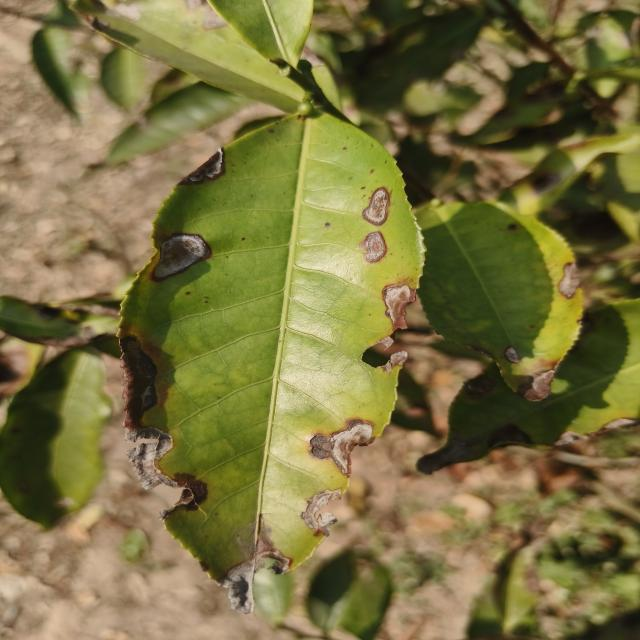Leaf: (119, 114, 422, 612), (425, 299, 640, 472), (415, 202, 582, 401), (72, 0, 303, 112), (0, 346, 111, 528), (107, 82, 251, 164), (510, 130, 640, 215), (208, 0, 313, 65), (467, 546, 539, 640), (0, 296, 119, 347), (32, 27, 79, 117), (100, 48, 146, 110), (253, 559, 293, 627)
